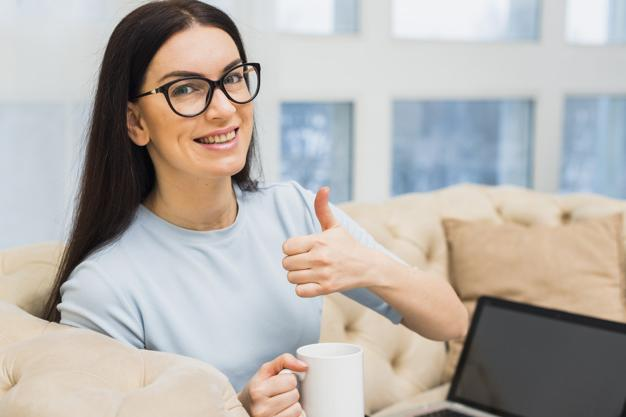thumbsup: (282, 185, 342, 297)
